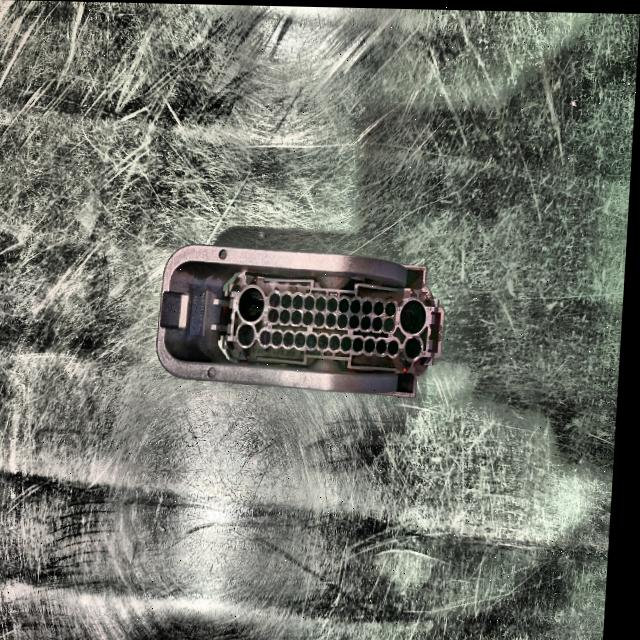P38: (161, 244, 447, 395)
